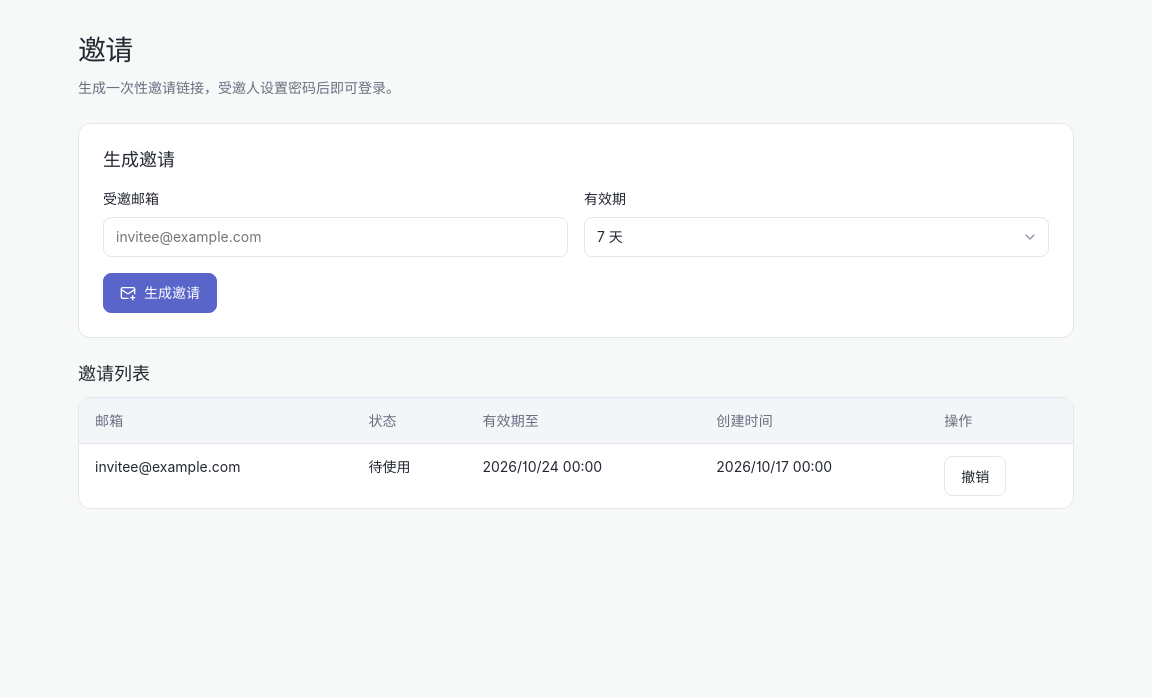
Test case: AdminInvitesPage › creates an invite and shows the one-time link
The width and height of the screenshot is (1152, 697).
Expected: the text "invitee@example.com" is shown, [79, 444, 352, 508]
In the field labelled "受邀邮箱": coordinates (336, 237) [103, 217, 568, 257], type "new@example.com"
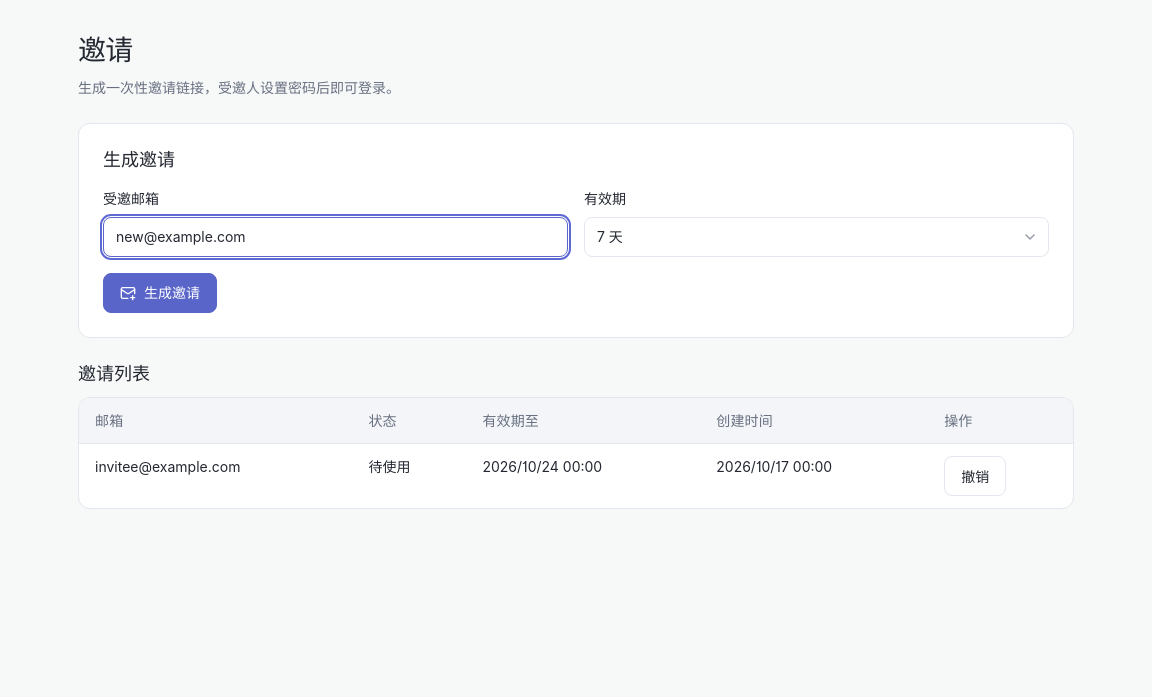
Click the button "生成邀请": coordinates (160, 293) [103, 273, 217, 313]
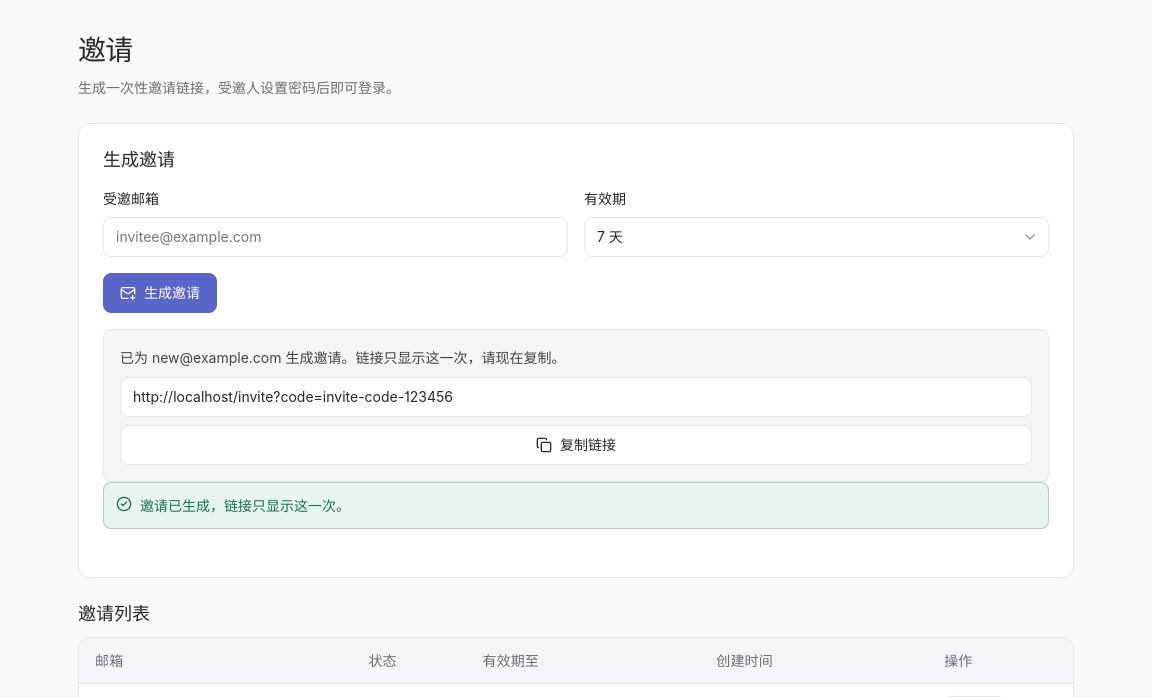
Expected: the text "已为 new@example.com 生成邀请。链接只显示这一次，请现在复制。" is shown, [120, 349, 566, 366]
